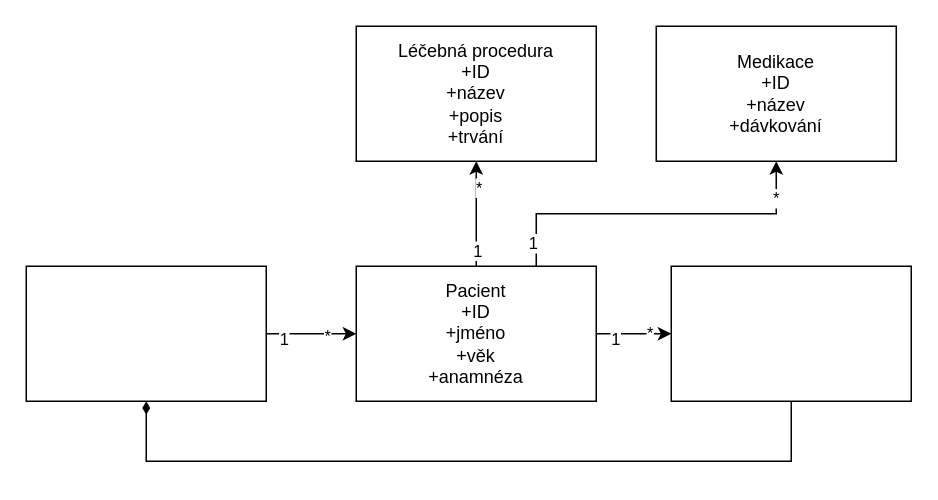
This 938x500 diagram has some shape labels left out. The shapes that lost their labels are listed below. From the top down, each one's box as (x1, y1, x2, y2) in pixels, then its label:
(25, 265, 266, 401): Lékař +ID +jméno +specializace
(670, 265, 911, 401): Diagnóza +ID +název +popis
